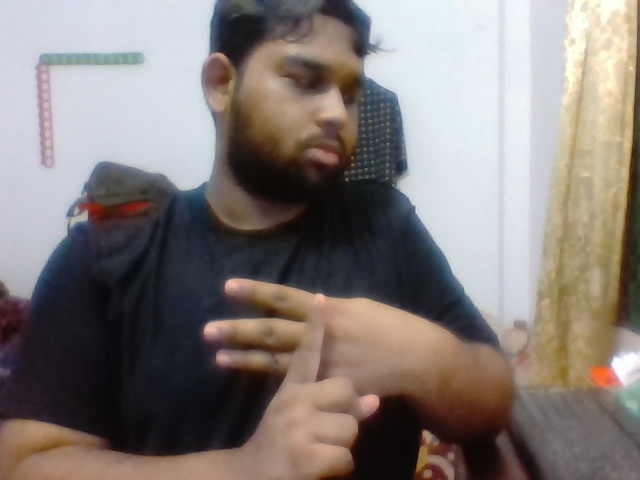E: (193, 260, 413, 465)
